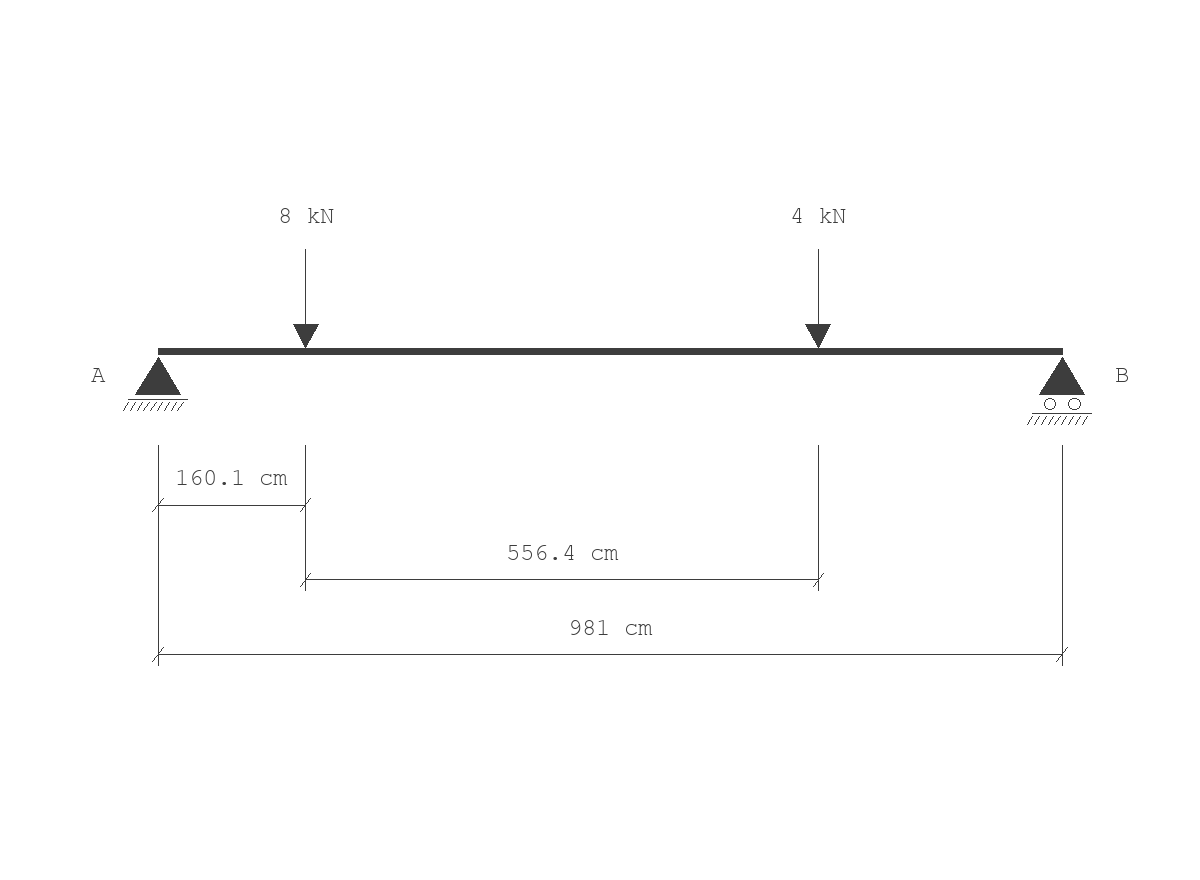pin_support: (123, 357, 188, 411)
point_load: (293, 249, 319, 348), (805, 249, 831, 348)
roller_support: (1027, 357, 1092, 425)
